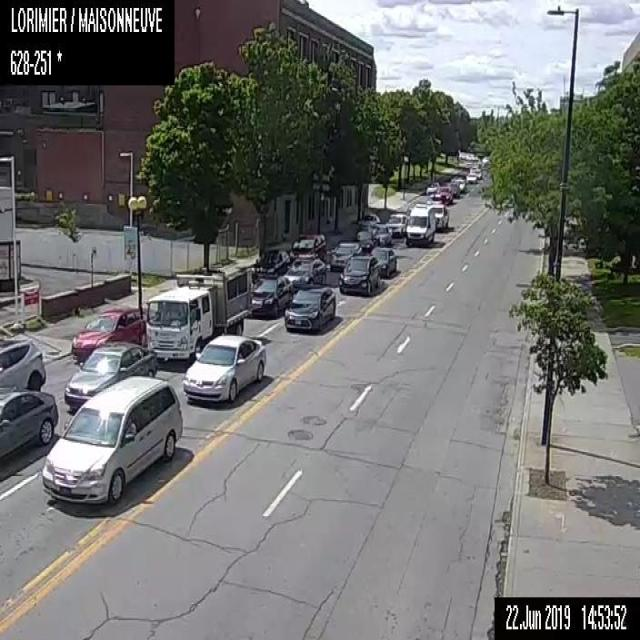vehicle: (42, 374, 182, 504), (145, 268, 251, 360), (63, 342, 156, 406), (182, 332, 265, 402), (70, 304, 146, 359), (0, 390, 57, 458), (284, 285, 334, 332), (0, 338, 45, 390), (248, 273, 292, 317), (337, 254, 380, 294), (405, 203, 435, 246), (284, 256, 324, 288), (250, 248, 289, 277), (288, 233, 326, 260), (330, 240, 362, 269), (368, 245, 396, 278), (354, 225, 380, 252), (385, 213, 408, 235), (430, 203, 448, 230), (370, 222, 391, 245), (358, 213, 380, 229), (432, 186, 452, 203), (443, 181, 459, 197), (450, 176, 466, 192), (426, 181, 439, 195), (466, 172, 476, 184), (472, 168, 482, 178)
